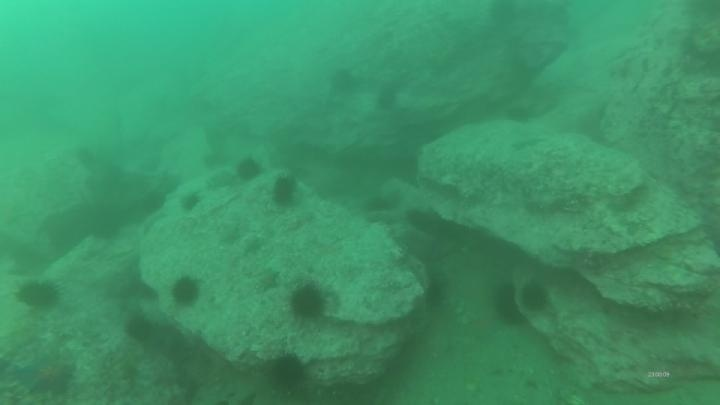echinus: (287, 281, 329, 322), (267, 351, 309, 392), (14, 277, 62, 312), (168, 273, 203, 309), (518, 279, 552, 315), (269, 173, 301, 209), (122, 312, 156, 345), (327, 66, 361, 98), (485, 1, 522, 29), (422, 275, 450, 311), (487, 301, 524, 328), (233, 155, 265, 184), (373, 83, 401, 113), (139, 188, 168, 216), (491, 280, 518, 305), (178, 189, 203, 215)
starfish: (13, 350, 77, 398), (253, 266, 282, 294), (508, 133, 547, 152)
